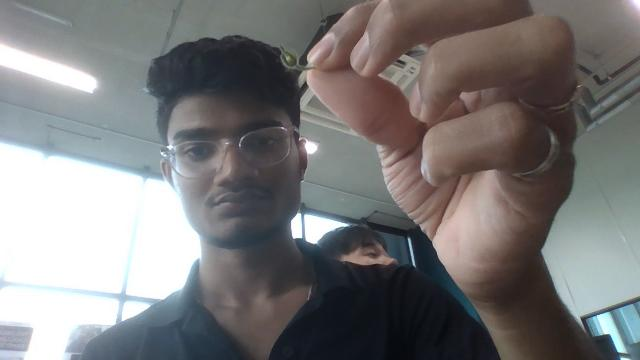Fruit Bud: (280, 46, 298, 67)
